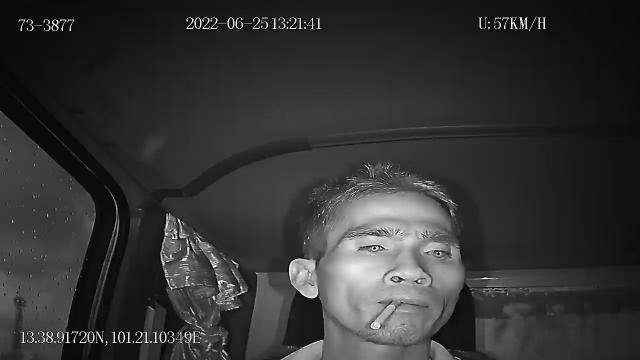SafeDriving: (350, 236, 394, 258), (416, 240, 458, 262)
Smoking: (370, 298, 400, 330)
